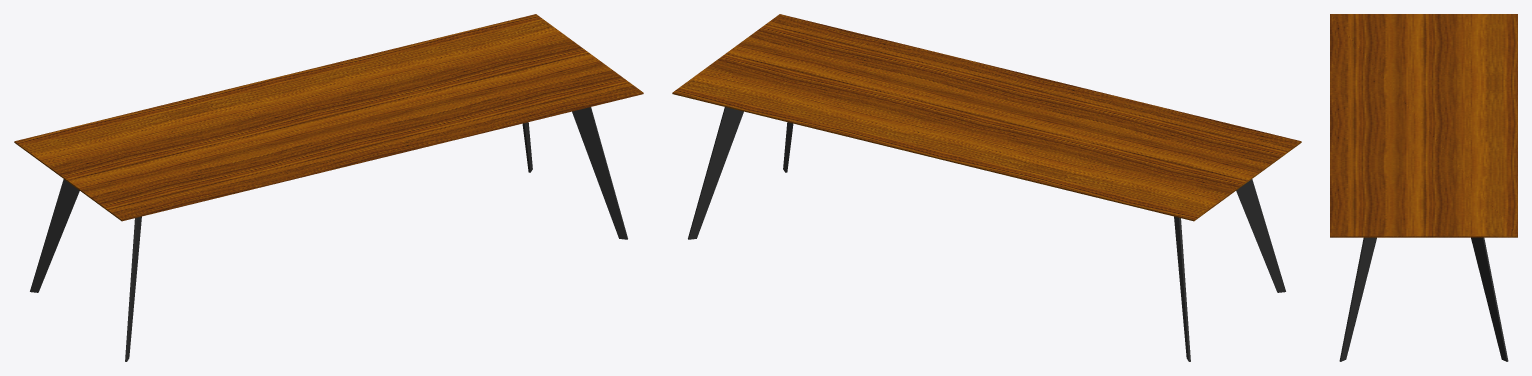
Rendered from liniem-table-system-by-muellermanufaktur 3280 cm.fbx.
The picture shows the model from 3 angles, left to right: view 1: azimuth 30°, elevation 25°; view 2: azimuth 150°, elevation 25°; view 3: azimuth 270°, elevation 25°; orthographic projection. The views are drawn at different scales.
Parts seen in each view (by area): view 1: LinieM table system 280cm_table top03, LinieM table system 280cm_legs; view 2: LinieM table system 280cm_table top03, LinieM table system 280cm_legs; view 3: LinieM table system 280cm_table top03, LinieM table system 280cm_legs.
Part boxes in pixels (box(x1,y1,x2,y2)): LinieM table system 280cm_table top03: box(14, 14, 643, 221); LinieM table system 280cm_legs: box(30, 107, 627, 361); LinieM table system 280cm_table top03: box(672, 14, 1301, 221); LinieM table system 280cm_legs: box(688, 107, 1285, 361); LinieM table system 280cm_table top03: box(1330, 14, 1517, 237); LinieM table system 280cm_legs: box(1339, 237, 1508, 361).
Size of the model in its own units: 280 by 76.19 by 100.
2 materials, 1 textured.
